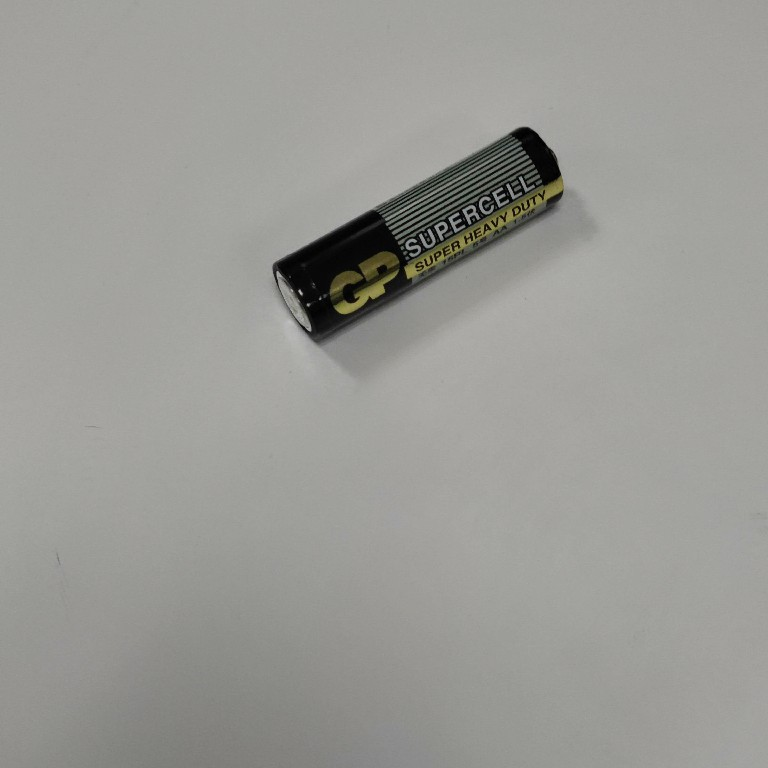charge: (269, 121, 571, 344)
